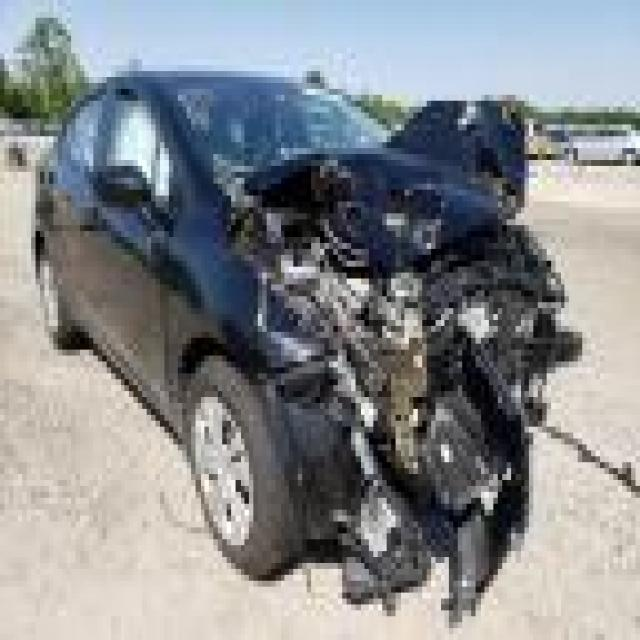severe: (238, 185, 561, 499)
